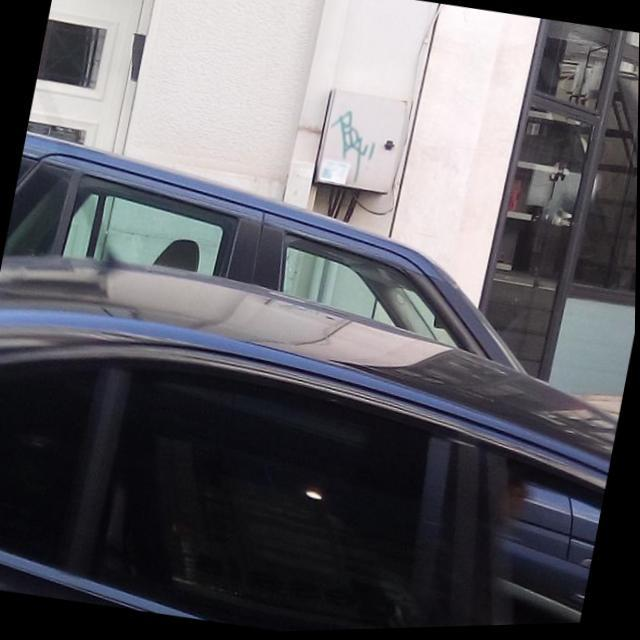-: (319, 110, 384, 188)
